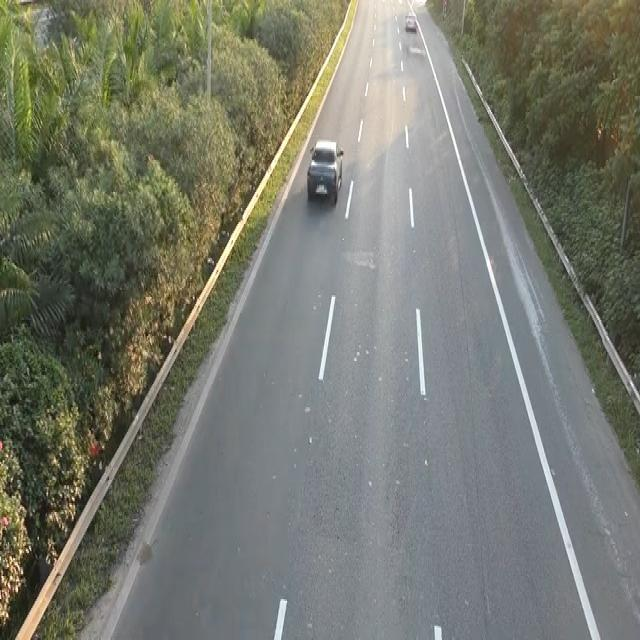car: (305, 135, 345, 206)
